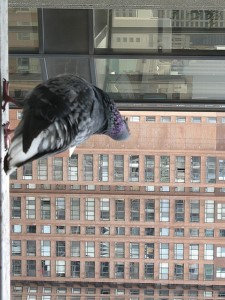pigeon: (1, 70, 133, 175)
